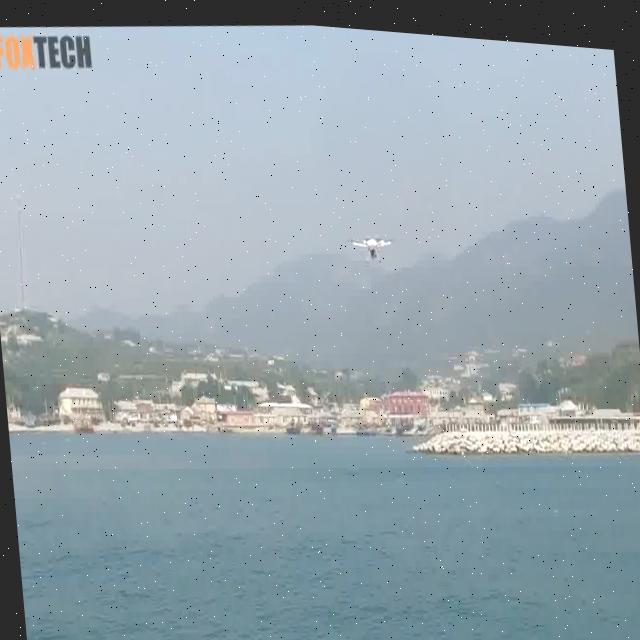drone: (342, 219, 404, 263)
